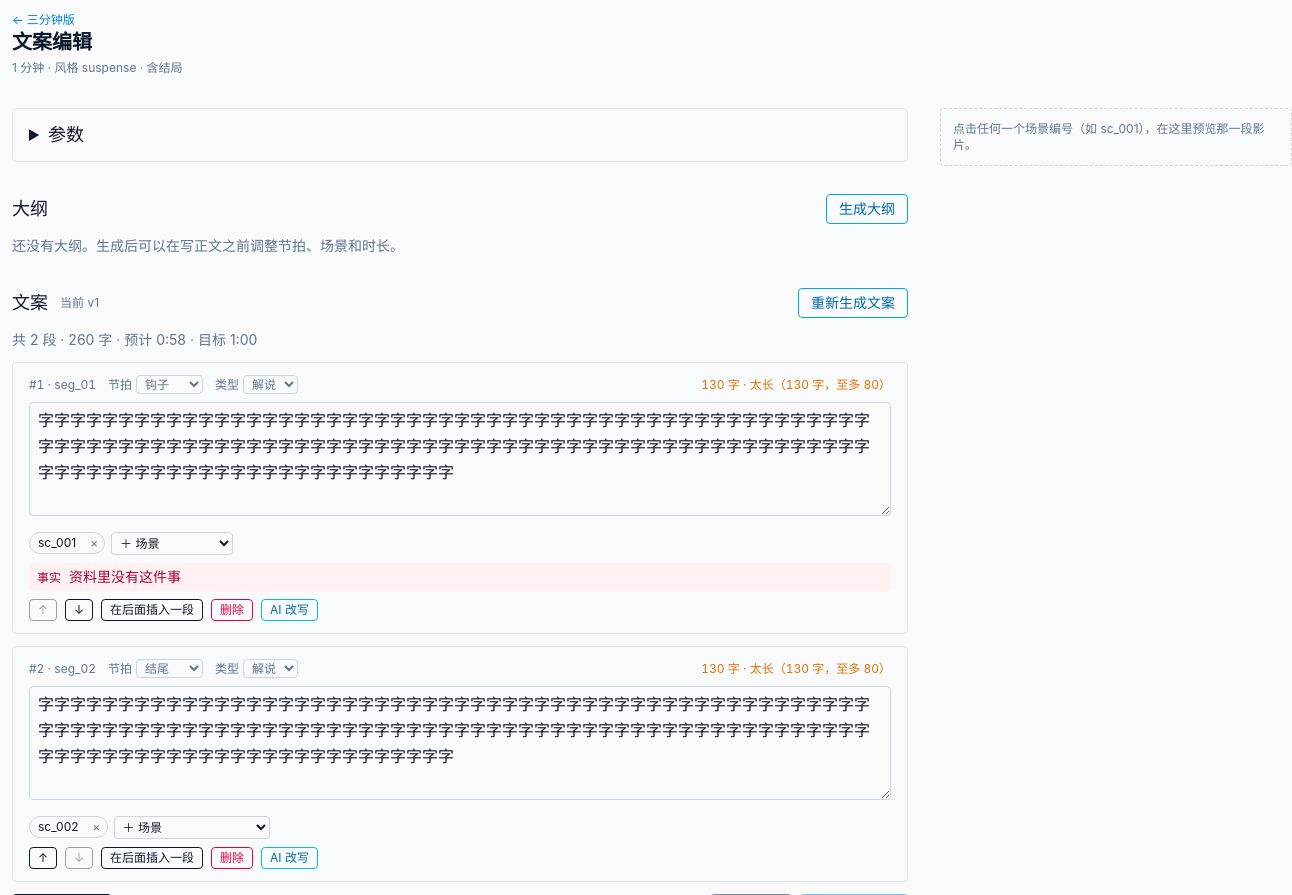
Test: script editor › saves an edit as a new version on the loaded one and drops notes of the edited segment
Expected: the number of list items named "第 1 段" is 2, [12,362,908,634]; [12,646,908,882]
Clear the text box named "第 1 段文字". click: point(460, 459)
box: [29,402,891,516]
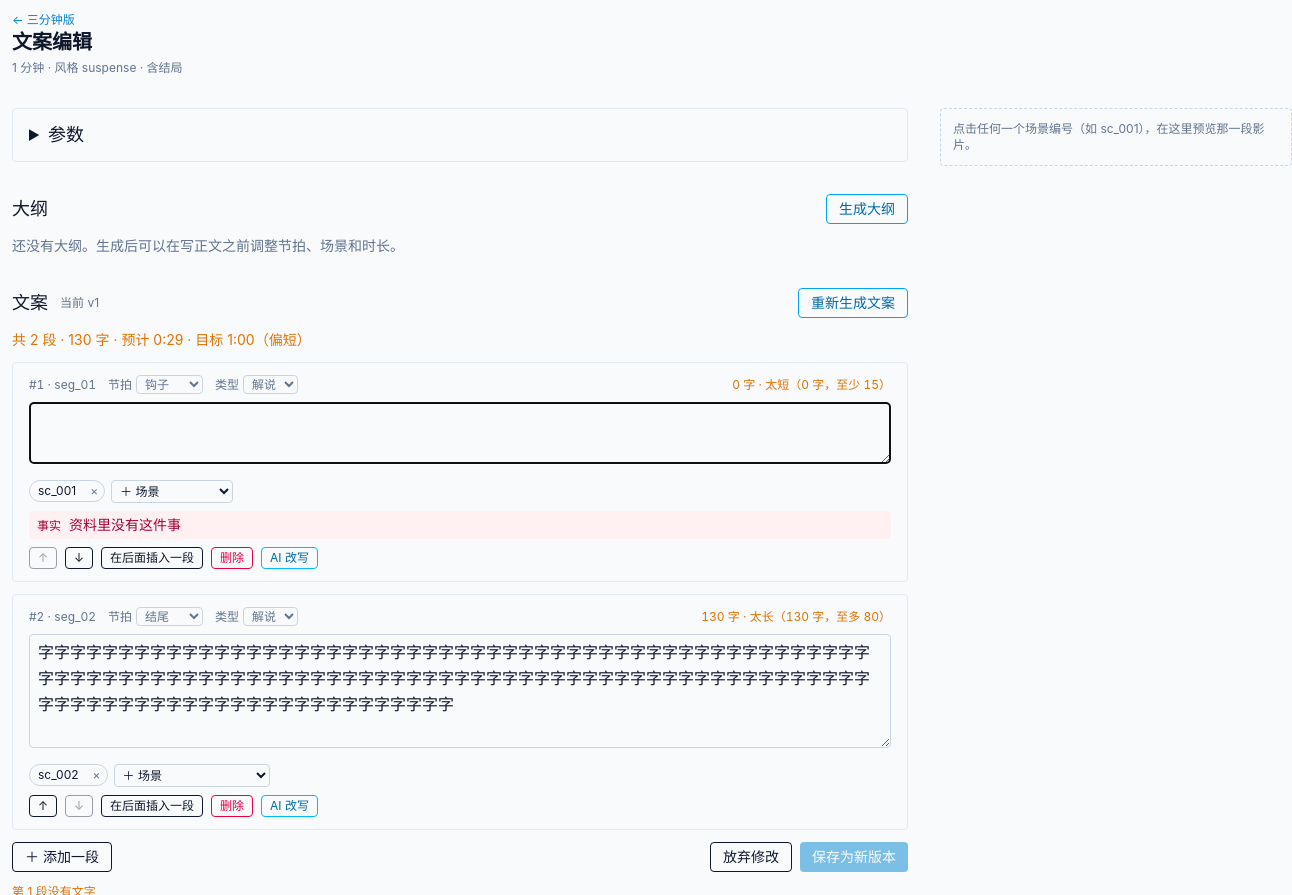
Type "我改过的开场。我改过的开场。我改过的开场。" into the text box named "第 1 段文字". click: point(460, 433)
box: [29,402,891,464]
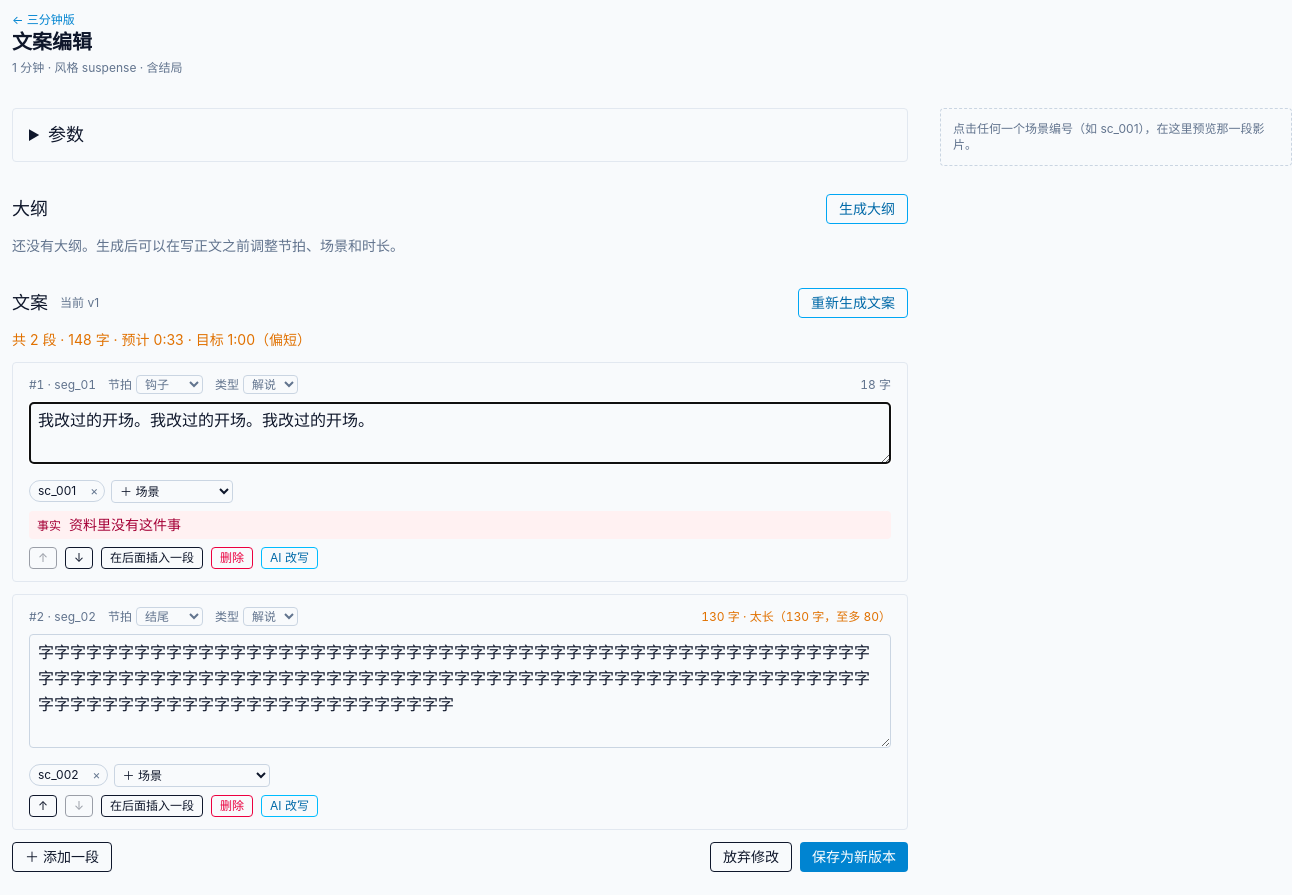
Expected: the button "保存为新版本" is enabled
Click the button "保存为新版本". click: point(854, 857)
box: [800,842,908,872]
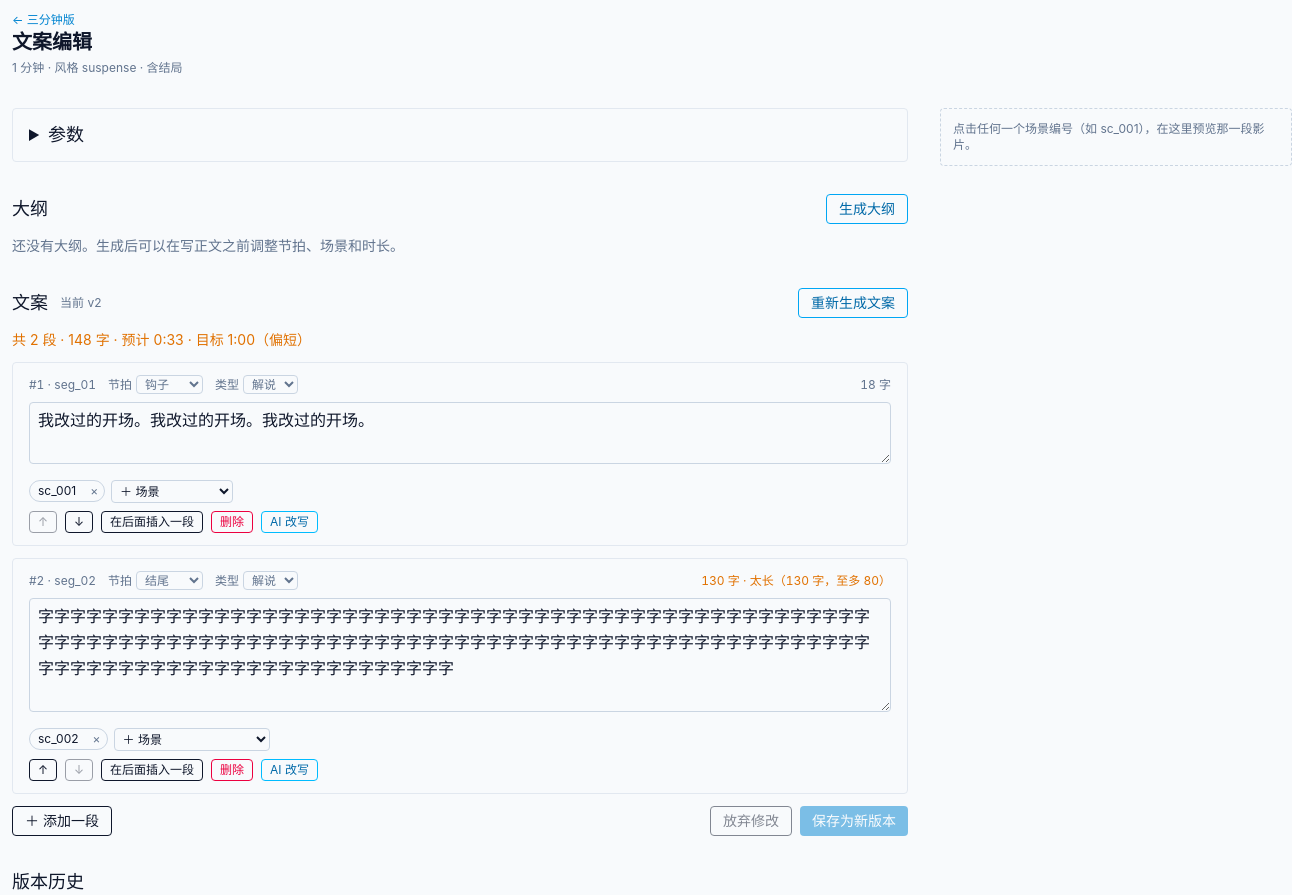
Expected: the button "保存为新版本" is disabled, [800,806,908,836]
Expected: the text "当前 v2" is shown, [60,295,102,311]
